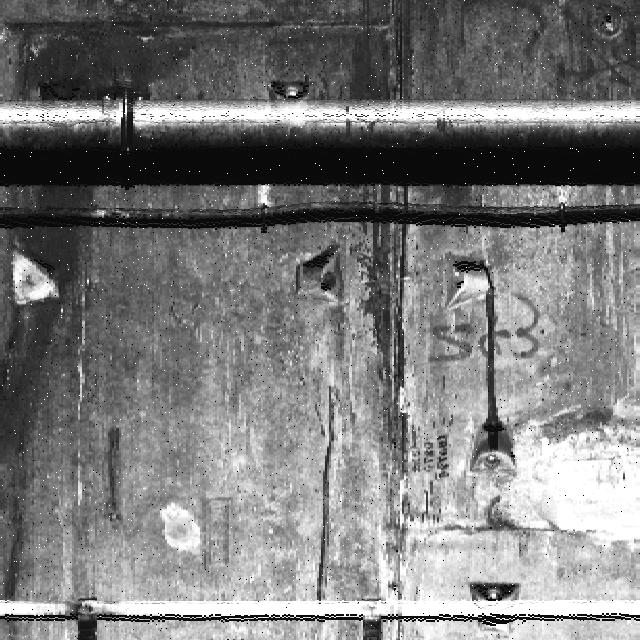leakage: (3, 1, 189, 615), (342, 1, 426, 597)
